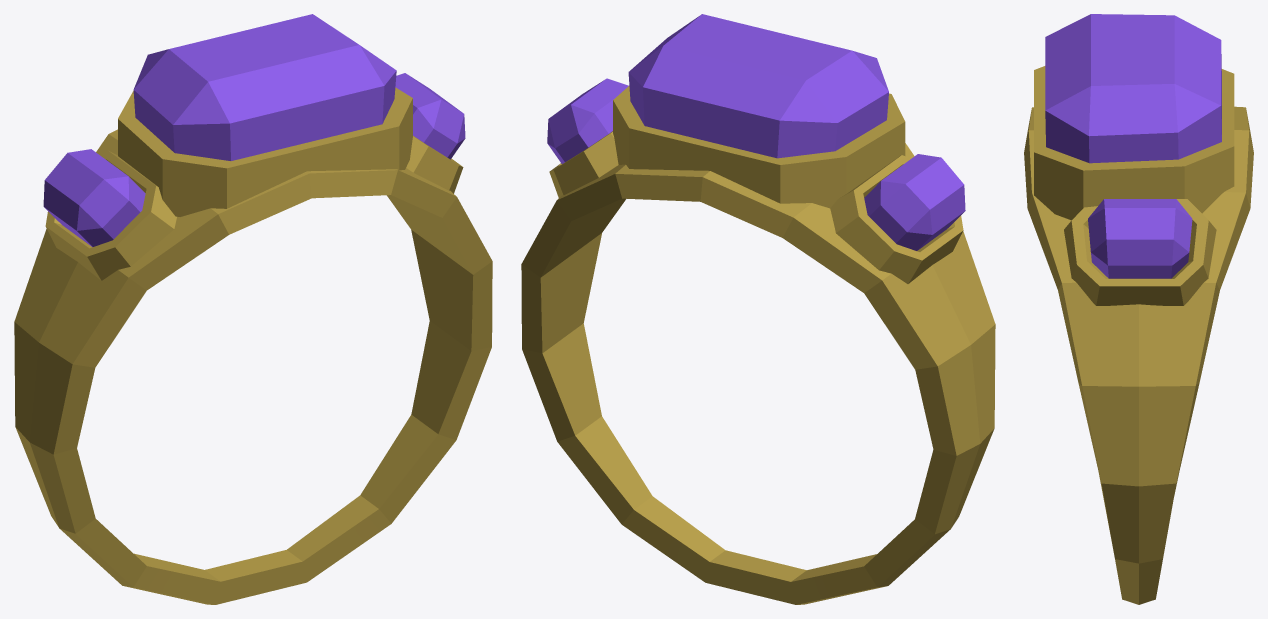
The model's file is ring5.glb.
3 views of the same model, side by side, from view 1: azimuth 30°, elevation 25°; view 2: azimuth 150°, elevation 25°; view 3: azimuth 270°, elevation 25° (orthographic). The views are drawn at different scales.
Visible parts, largest first — view 1: Ring5; view 2: Ring5; view 3: Ring5.
Boxes of the visible parts, <box> form: Ring5: <box>14,14,492,604</box>; Ring5: <box>521,14,995,604</box>; Ring5: <box>1024,14,1253,604</box>.
Size of the model in its own units: 0.6619 by 0.7723 by 0.3013.
